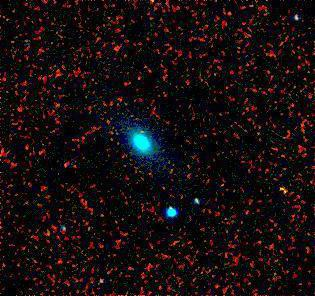star: (28, 219, 58, 249)
